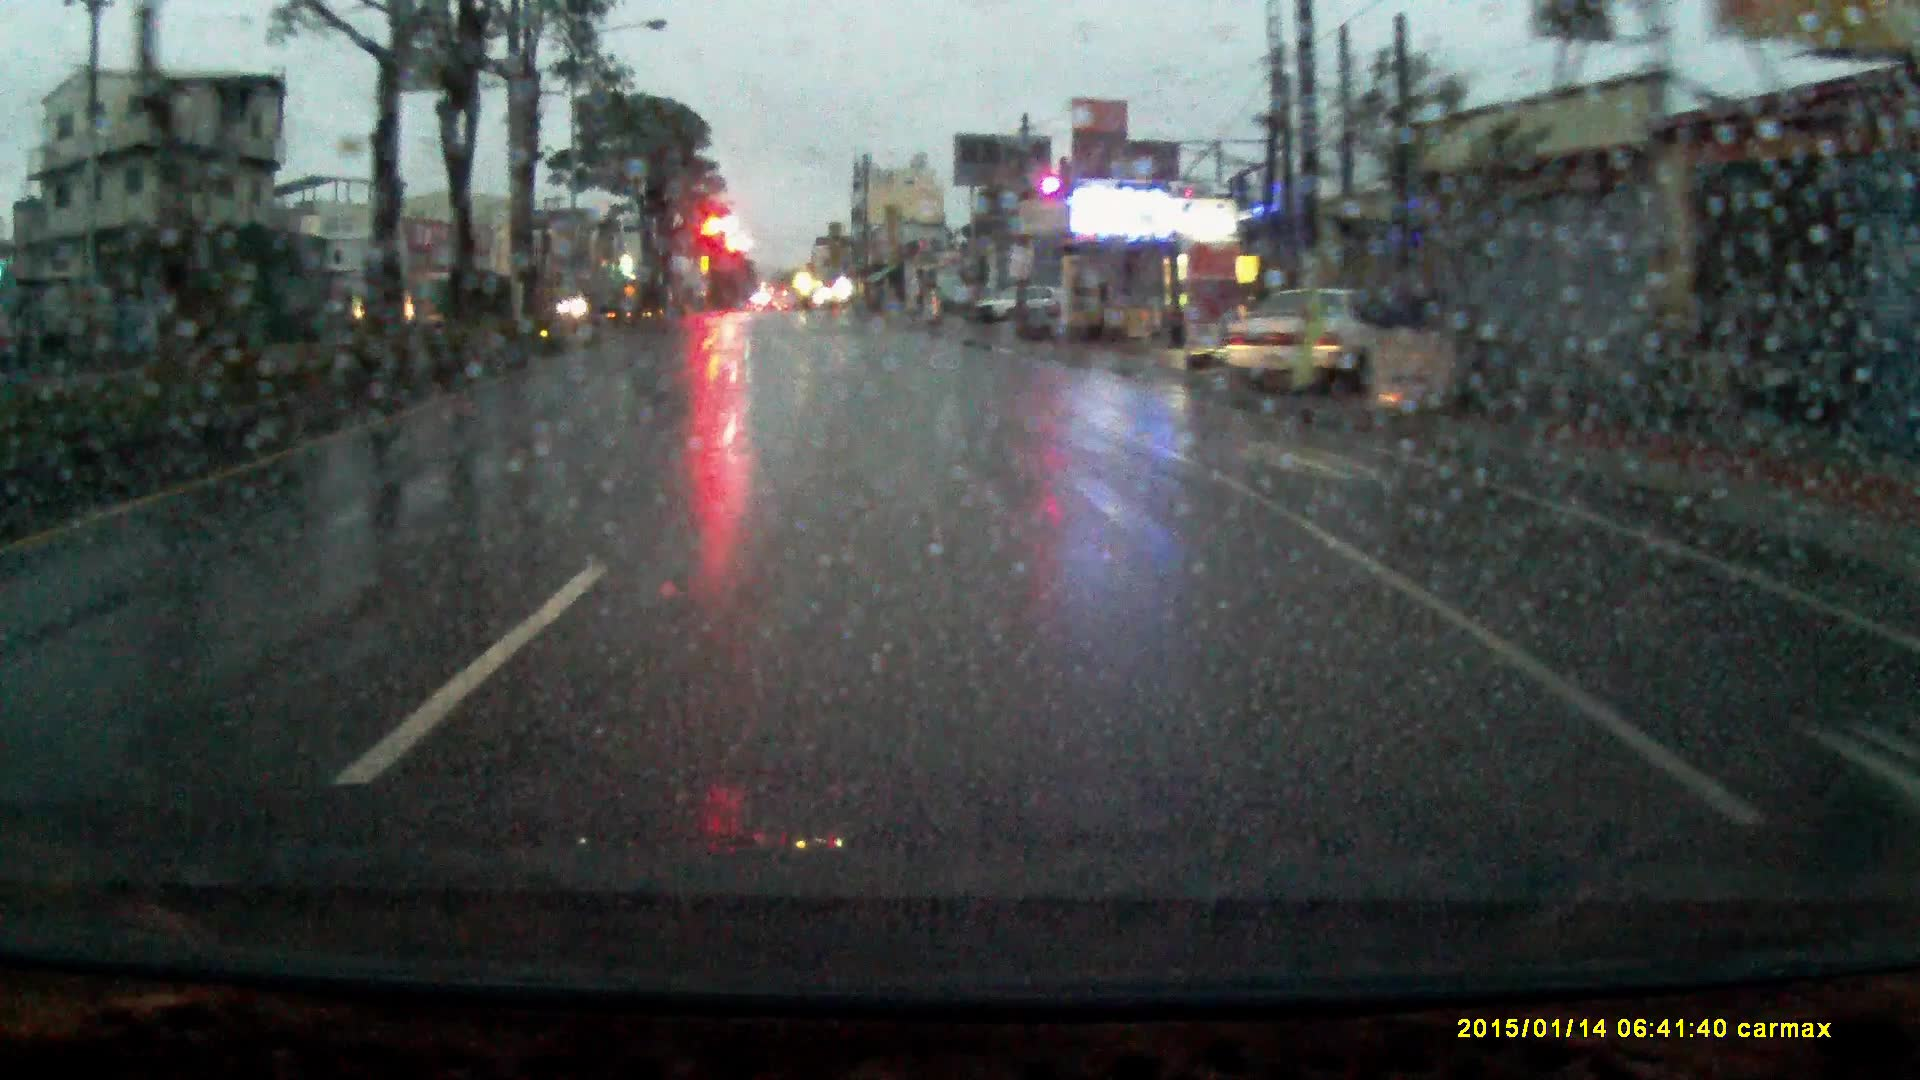vehicle: (1232, 287, 1406, 397), (978, 287, 1060, 326), (551, 290, 595, 323)
